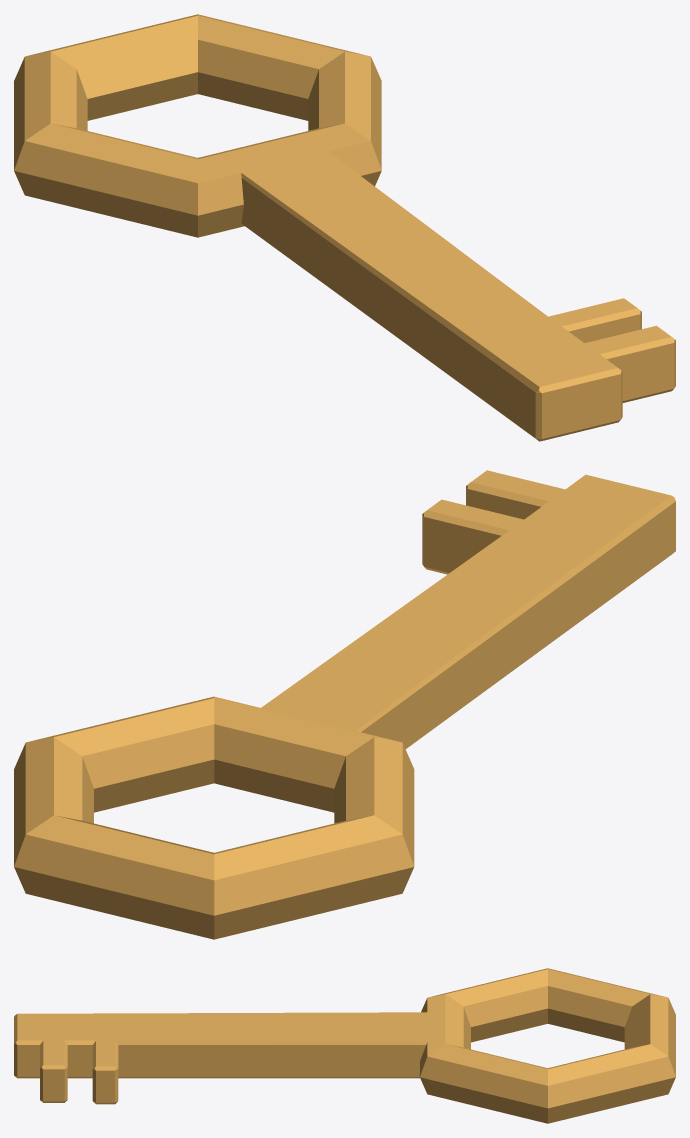
Rendered from key_low_poly.glb.
The picture shows the model from 3 angles, top to bottom: view 1: azimuth 30°, elevation 25°; view 2: azimuth 150°, elevation 25°; view 3: azimuth 270°, elevation 25°; orthographic projection. The views are drawn at different scales.
Visible parts, largest first — view 1: Torus; view 2: Torus; view 3: Torus.
Boxes of the visible parts, x1,y1,x2,y2 form: Torus: (14, 14, 675, 441); Torus: (14, 470, 675, 939); Torus: (14, 968, 675, 1123).
Size of the model in its own units: 2.5 by 0.5 by 5.59.
